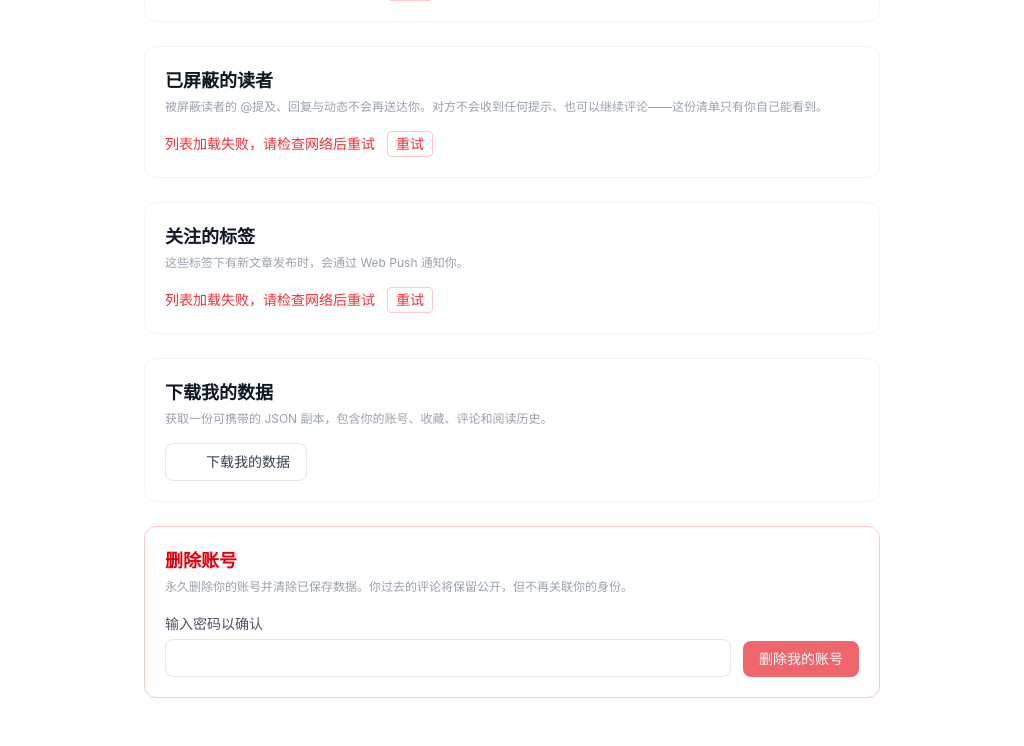
Test: Account settings page › data export (TASK-175) › downloads the data bundle after confirmation
(page scrolled)
Click the button "下载我的数据" at (236, 462), box [165,443,307,481]
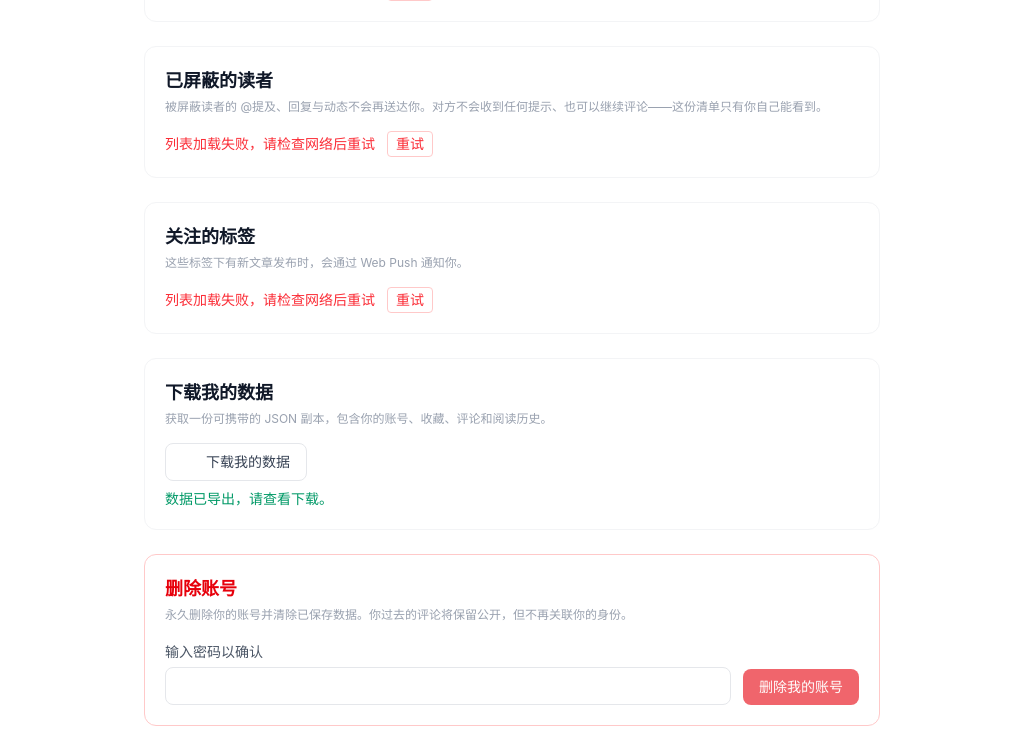
Expected: the text "数据已导出" is shown, [165,490,333,507]
